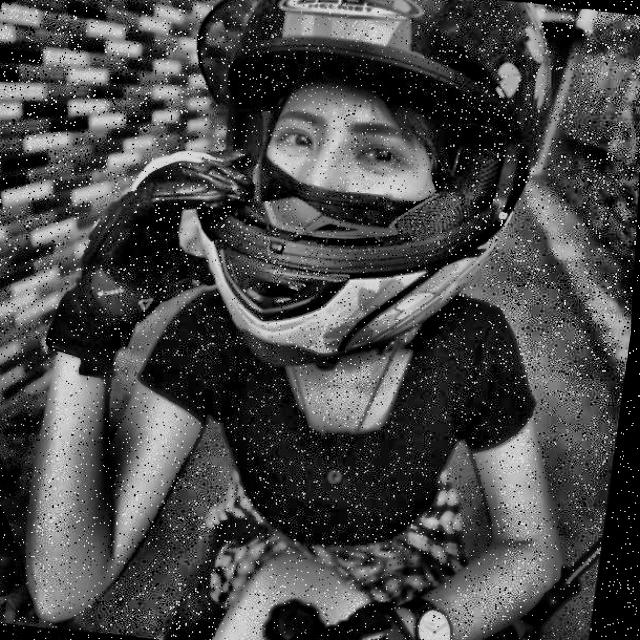Helmet: (150, 0, 580, 398)
